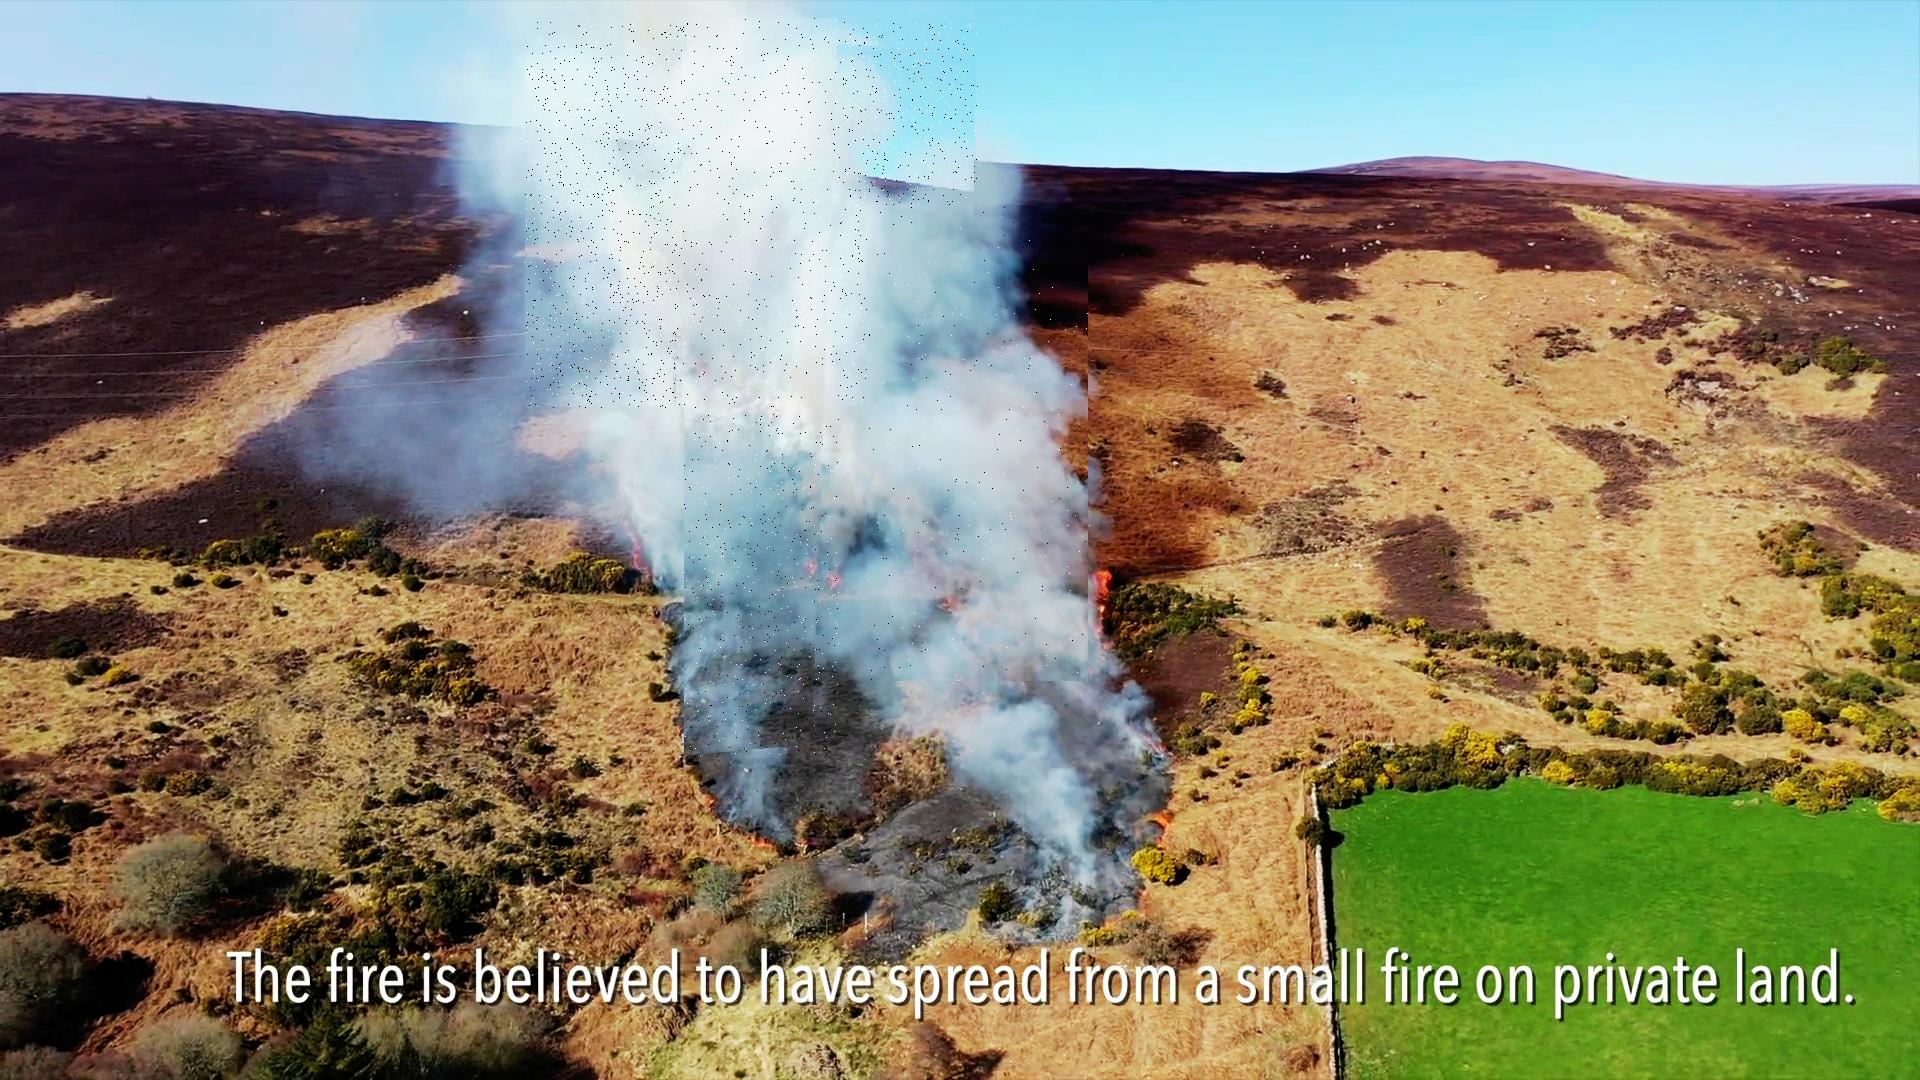smoke: (526, 22, 978, 409), (684, 18, 839, 758), (868, 206, 1091, 684)
